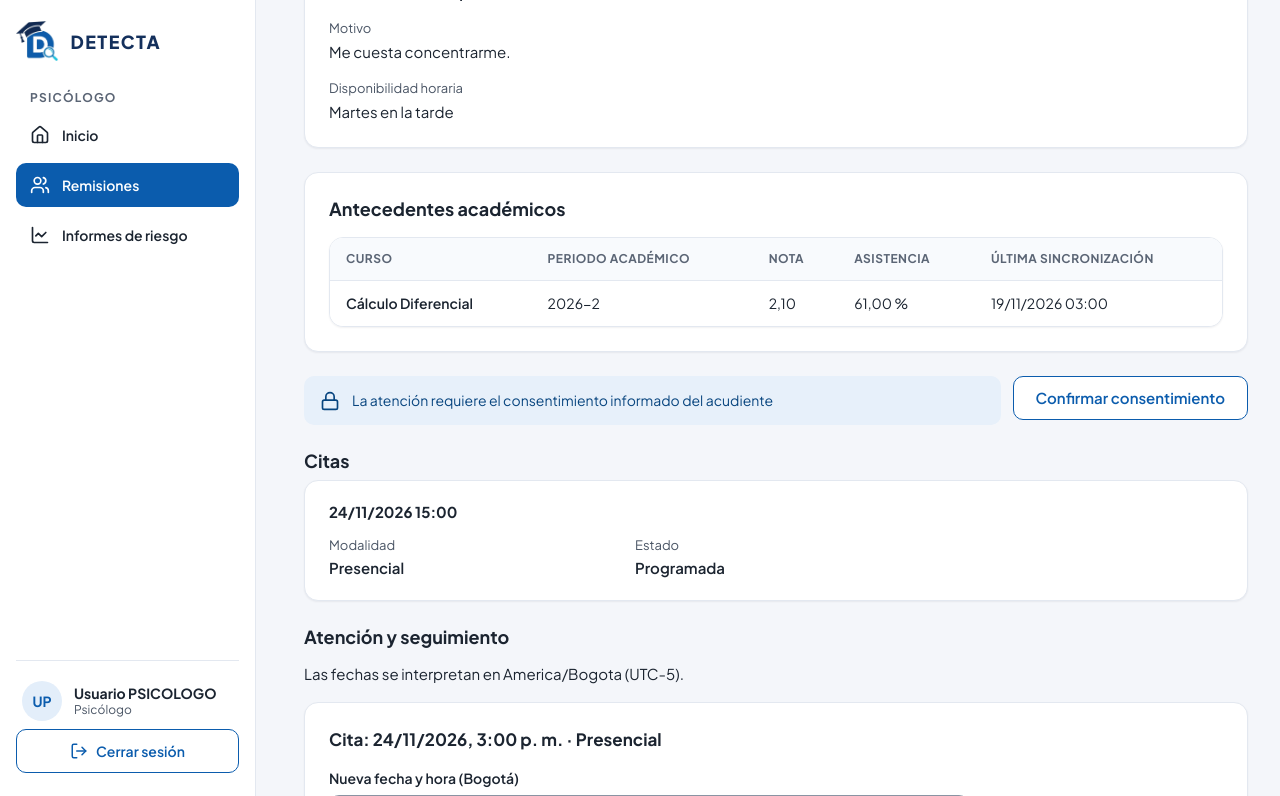
it: Consentimiento en un diálogo modal (D7a, §7.6) › al abrir: el foco entra a la casilla y «Confirmar» espera a que se marque
(page scrolled)
Click the button "Confirmar consentimiento".
click(1130, 398)  # box top-left (1013, 376), bottom-right (1248, 420)
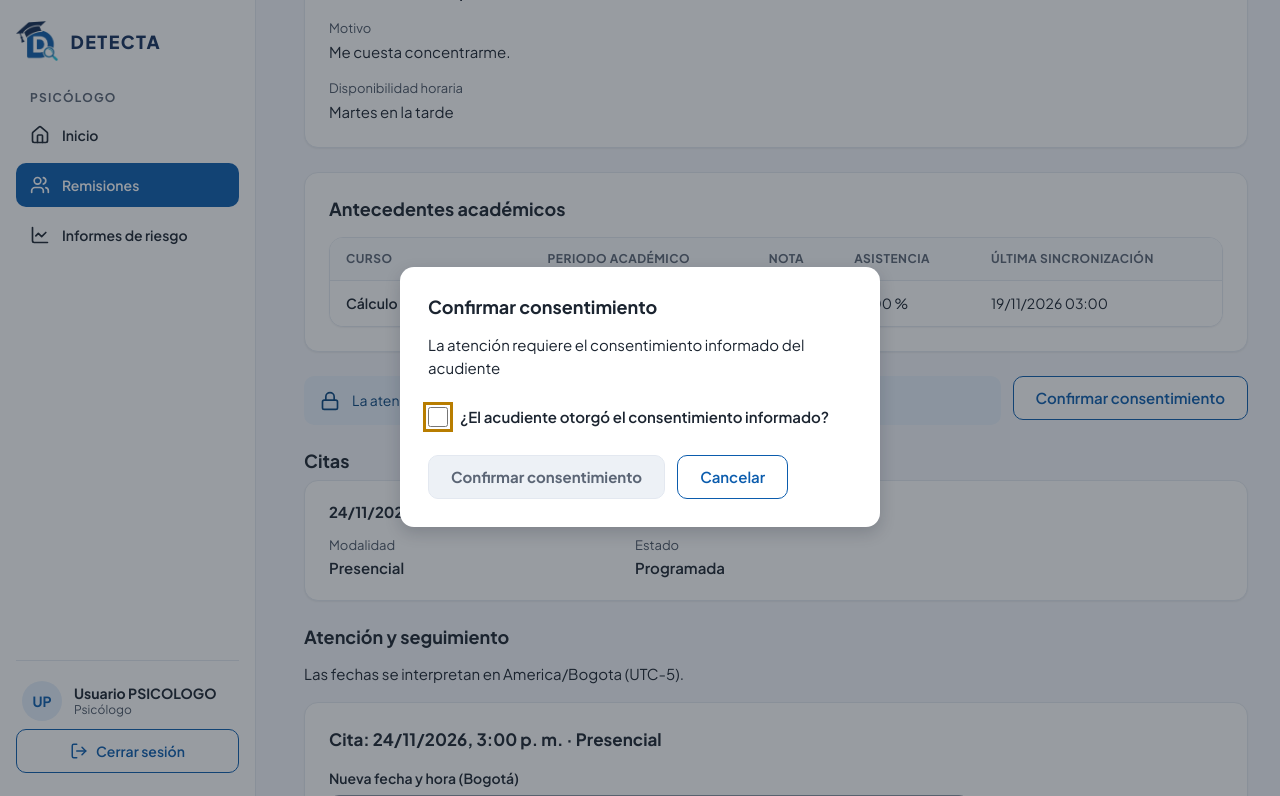
Check: the text "La atención requiere el consentimiento informado del acudiente" is shown, box top-left (428, 334), bottom-right (852, 379)
Check: the 2nd button "Confirmar consentimiento" is disabled, box top-left (428, 455), bottom-right (665, 499)
Click the checkbox labelled "¿El acudiente otorgó el consentimiento informado?".
click(438, 417)  # box top-left (428, 407), bottom-right (448, 427)
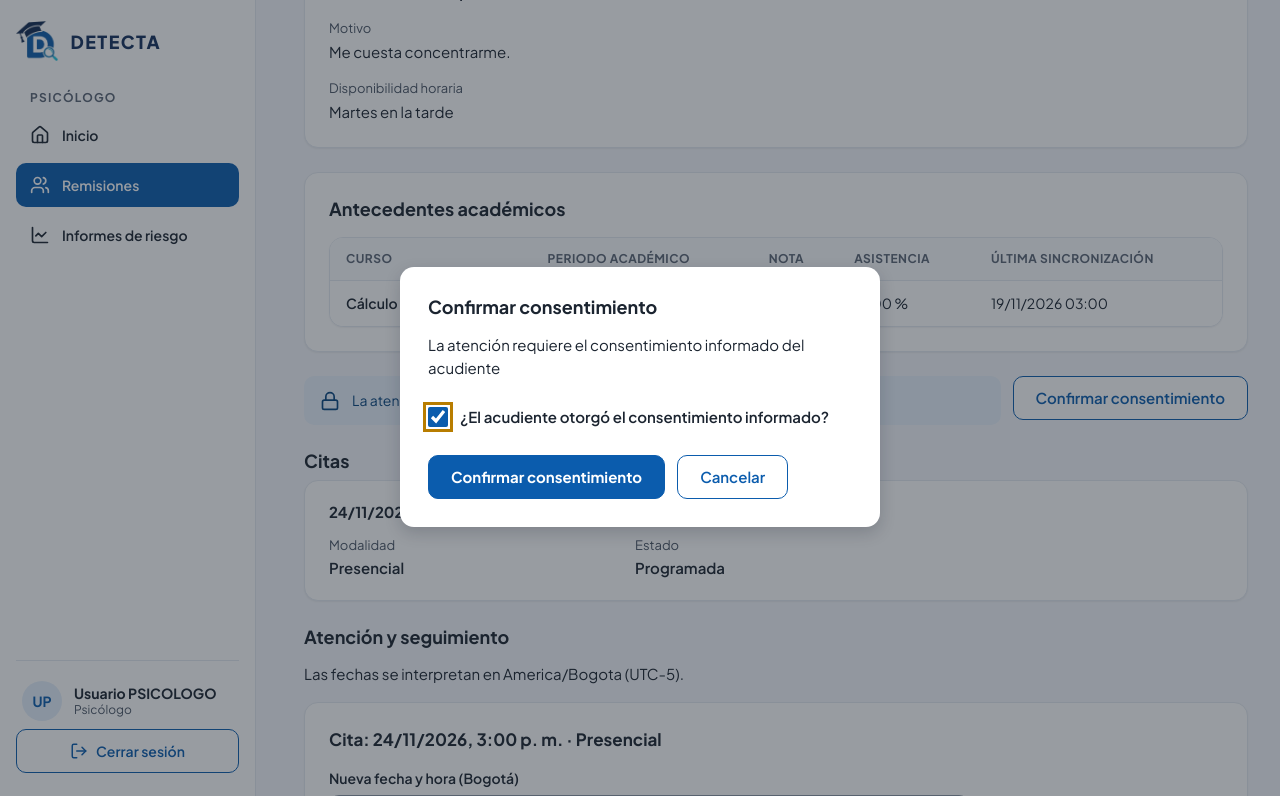
Check: the 2nd button "Confirmar consentimiento" is enabled, box top-left (428, 455), bottom-right (665, 499)
